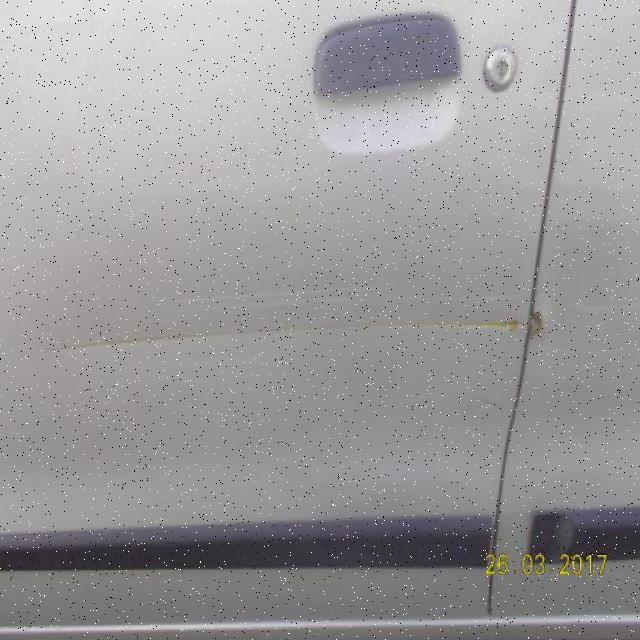car damage: (43, 310, 521, 362), (524, 301, 547, 348)
